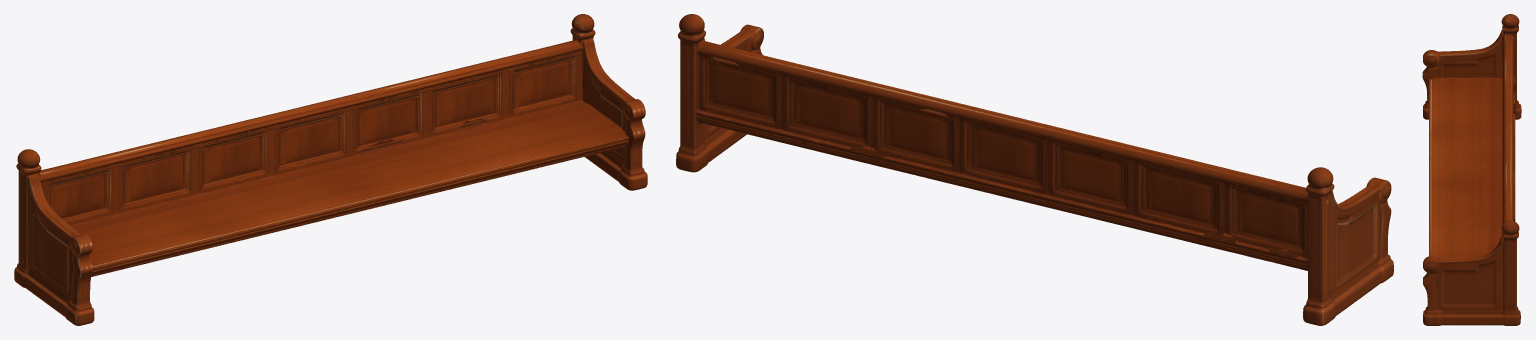
File: Pew.glb
3 views of the same model, side by side, from view 1: azimuth 30°, elevation 25°; view 2: azimuth 150°, elevation 25°; view 3: azimuth 270°, elevation 25° (orthographic). The views are drawn at different scales.
Size of the model in its own units: 1.9 by 0.4221 by 0.3717.
Materials: 1 (1 with a texture image).
